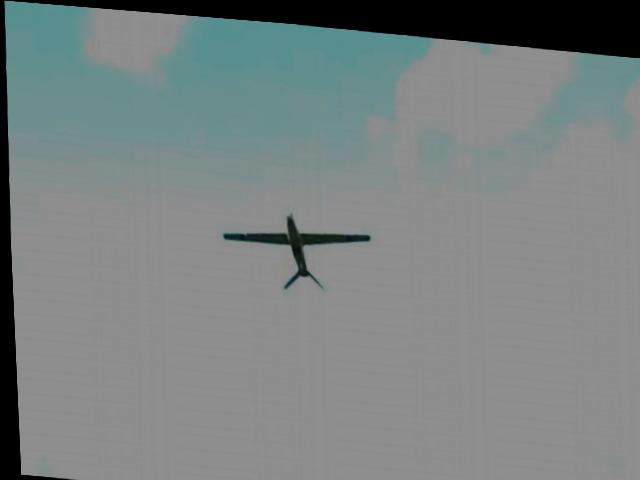iha: (213, 188, 376, 294)
